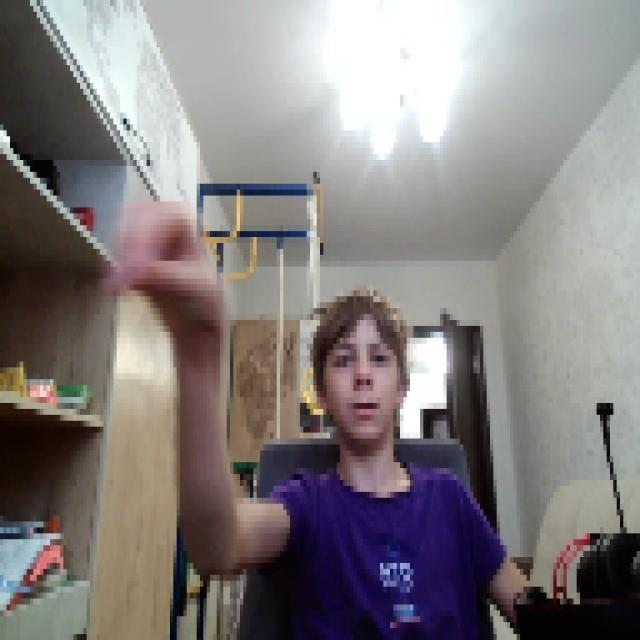left_click: (107, 190, 220, 332)
